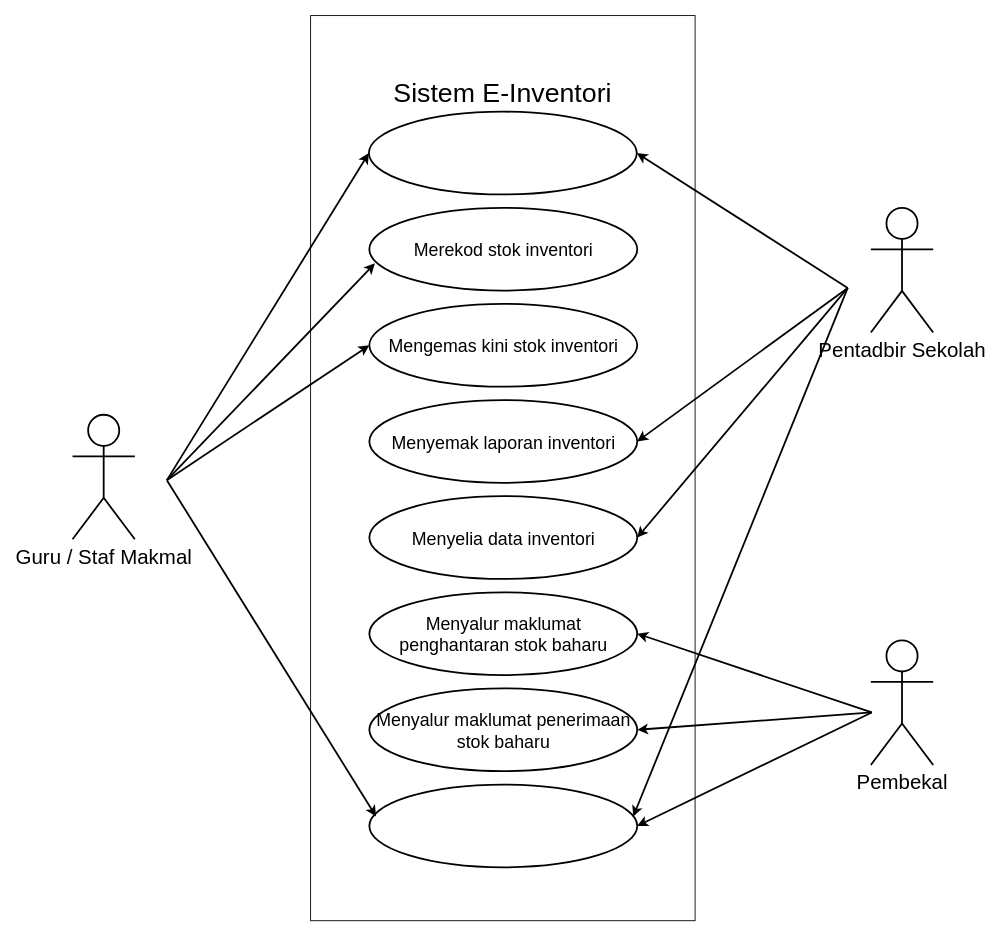
Image size: 1000x936. Some labels were removed from this diagram. Each missing label, with the centre of its shape:
Log keluar: point 503,825
Log masuk: point 502,152
